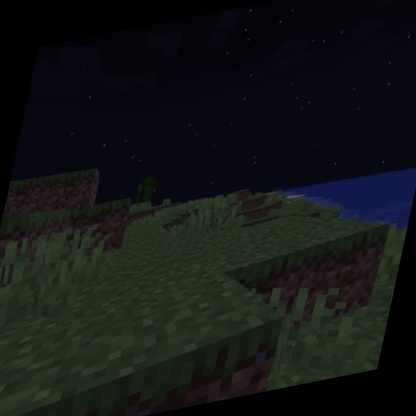spider: (80, 187, 269, 357)
